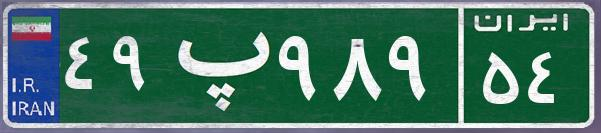4: (57, 26, 110, 107), (525, 38, 570, 115)
5: (475, 38, 525, 113)
8: (330, 28, 385, 110)
9: (385, 28, 445, 110), (273, 28, 330, 110), (110, 28, 158, 105)
پ: (158, 15, 273, 115)
